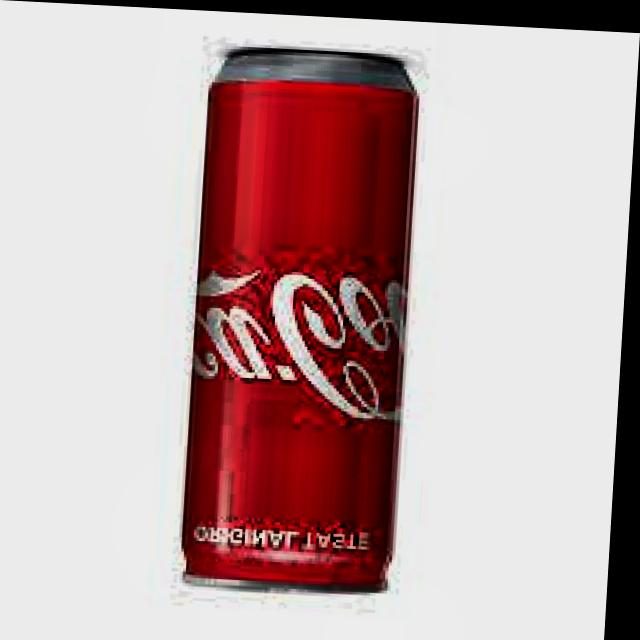can: (176, 33, 438, 607)
